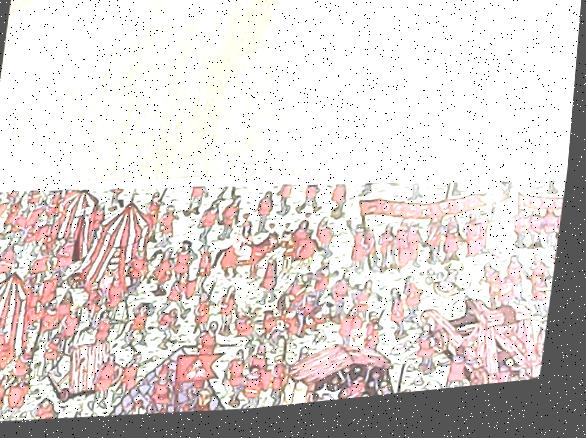waldo: (356, 337, 374, 356)
